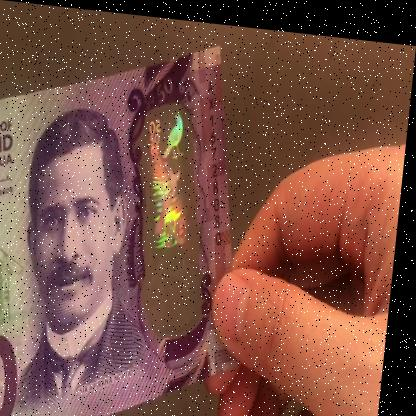50F: (135, 102, 213, 327)
